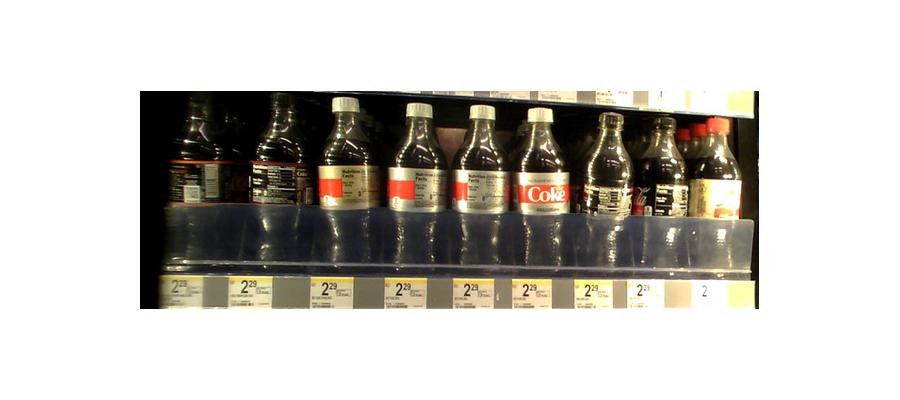bottle: (318, 95, 380, 270), (387, 98, 448, 271), (177, 98, 241, 262), (251, 92, 310, 265), (451, 105, 509, 273), (516, 107, 570, 272), (578, 113, 634, 272), (638, 108, 689, 275), (692, 115, 743, 273)
